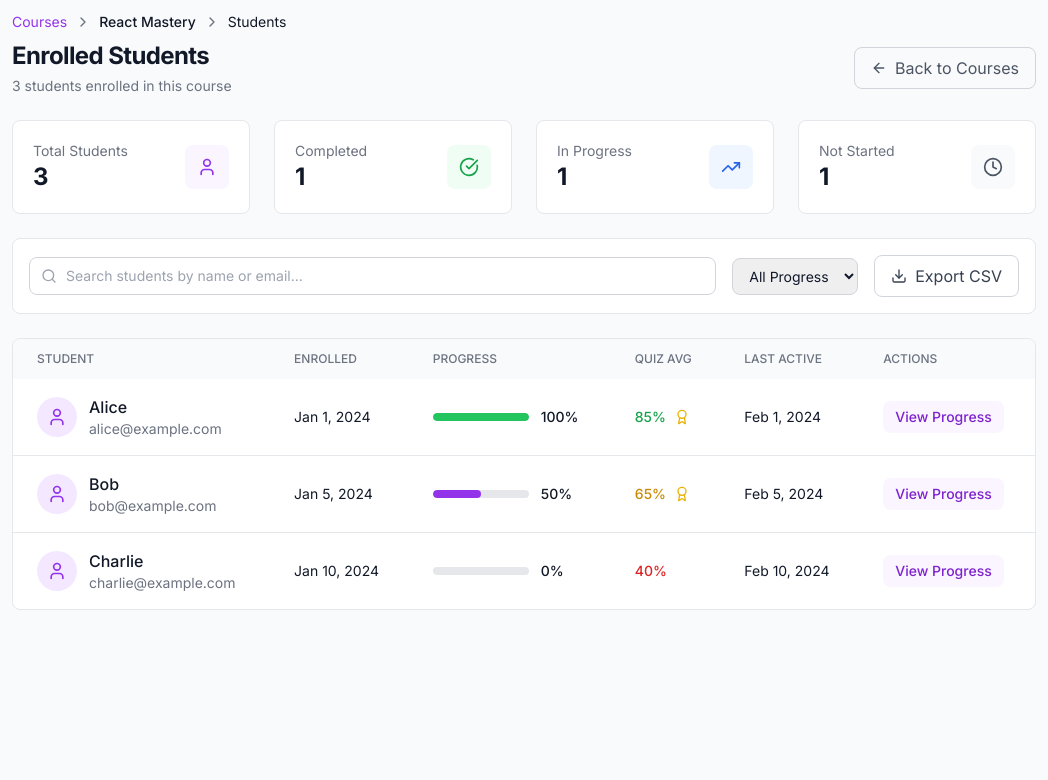
filters students by search and progress
Check: the text "React Mastery" is shown, box [99,12,196,32]
Note: search by name
Step 1. Type "alice" into the field with placeholder "Search students by name or email..." → [373, 276], box [29,257,716,295]
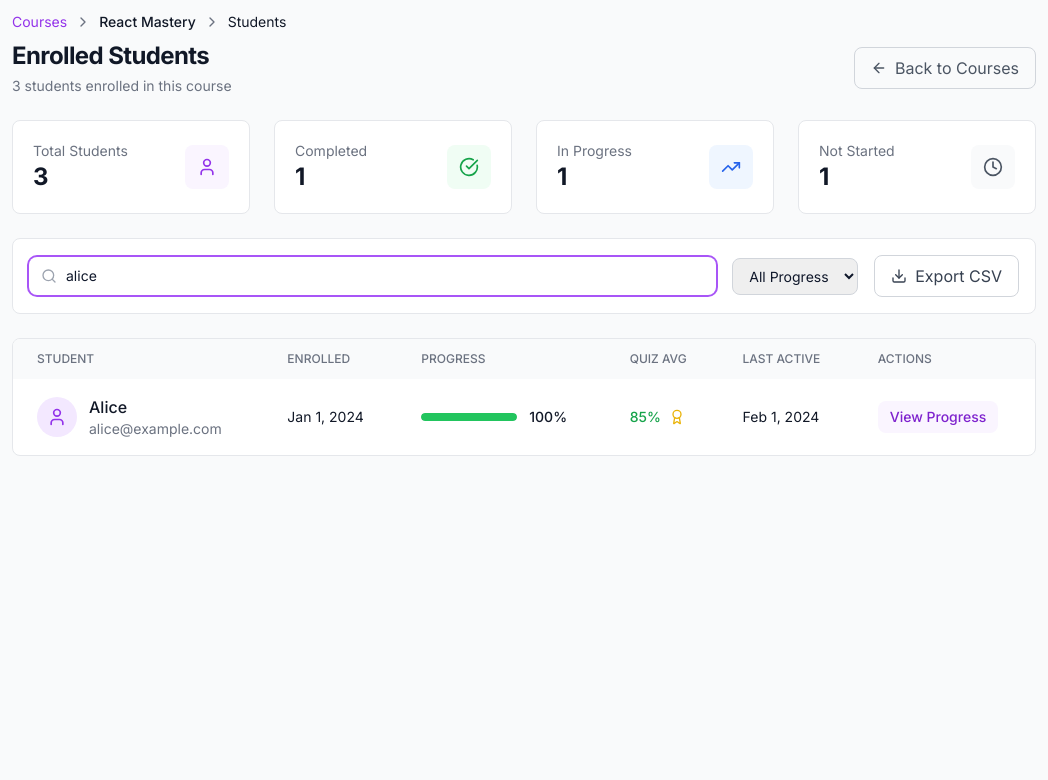
Check: the text "alice@example.com" is shown, box [89,419,222,439]
Check: the text "bob@example.com" is gone
Check: the text "charlie@example.com" is gone
Note: clear search and filter by progress
Step 2. Clear the field with placeholder "Search students by name or email..." → [373, 276], box [29,257,716,295]
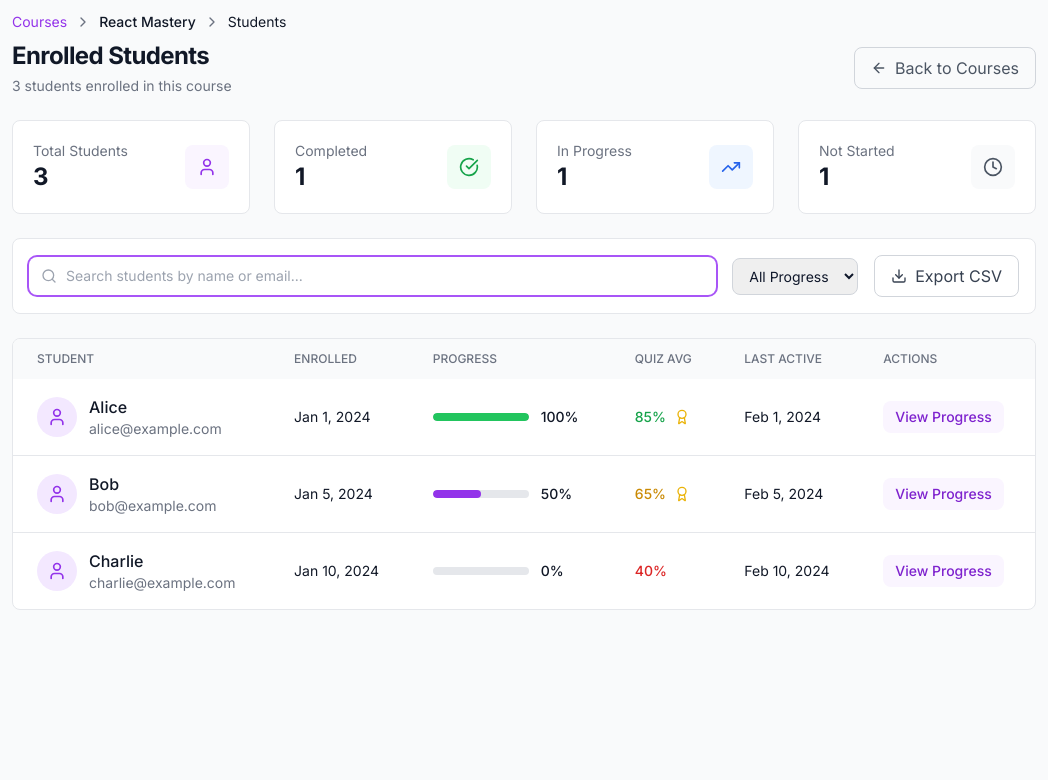
Step 3. Select "Completed" in the dropdown showing "all progress" → [795, 276], box [732,258,858,294]
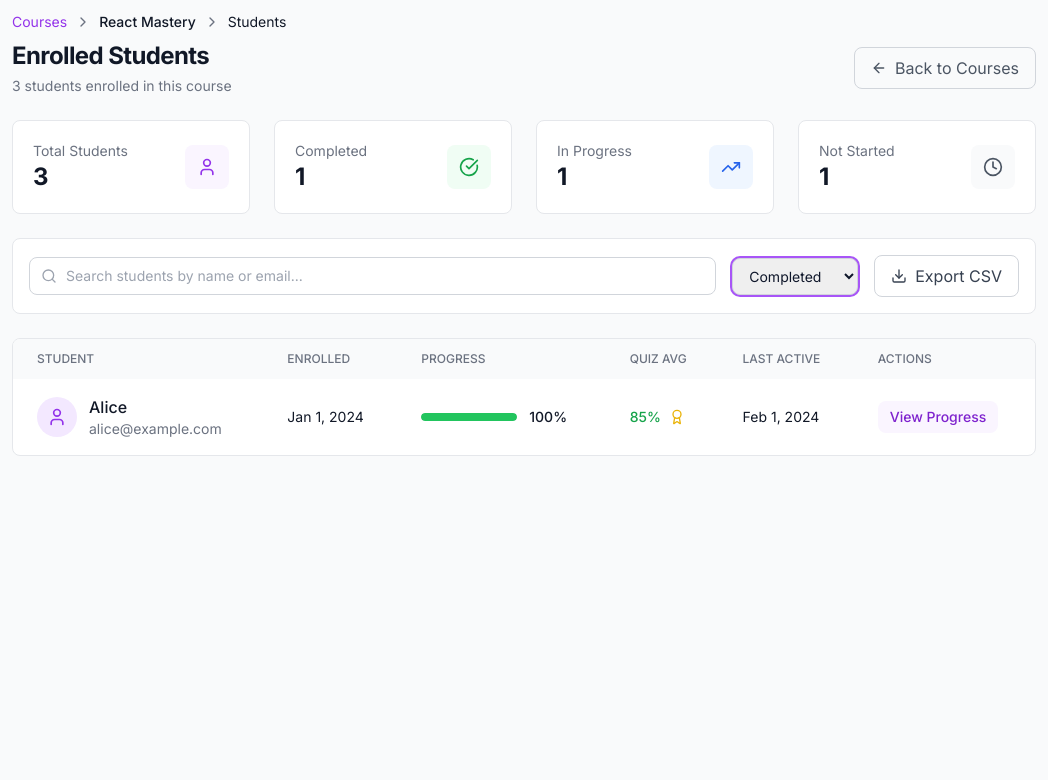
Check: the text "alice@example.com" is shown, box [89,419,222,439]
Check: the text "bob@example.com" is gone
Step 4. Select "In Progress" in the dropdown showing "completed" → [795, 276], box [732,258,858,294]
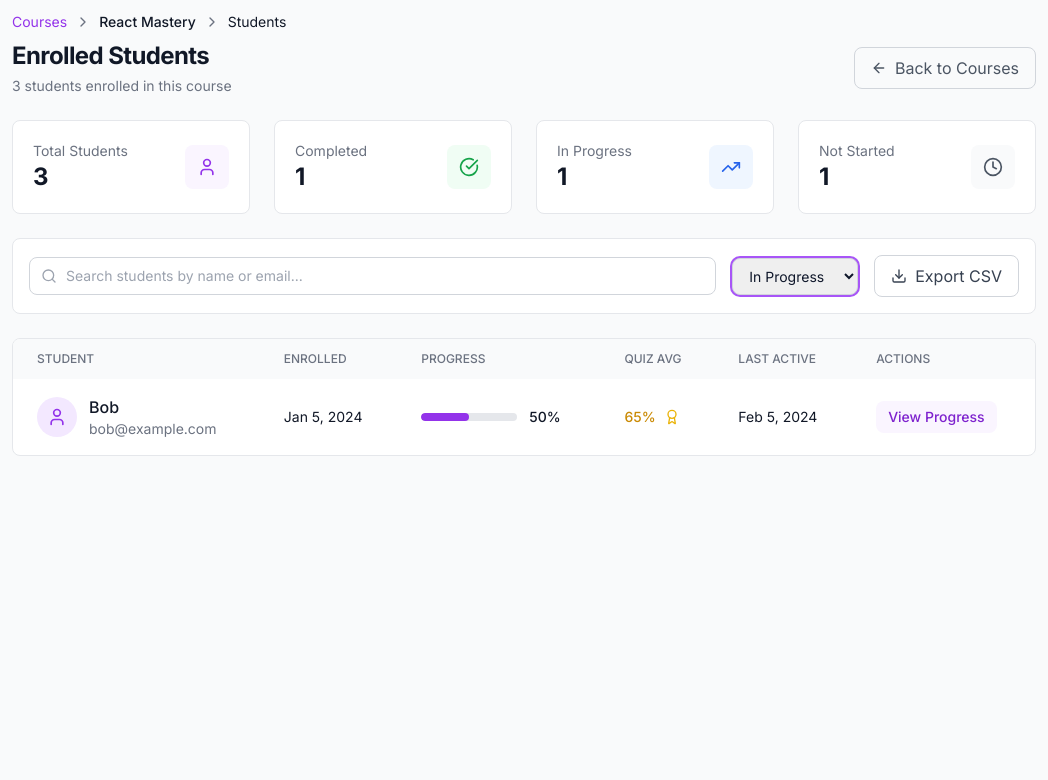
Check: the text "bob@example.com" is shown, box [89,419,216,439]
Check: the text "alice@example.com" is gone
Step 5. Select "Not Started" in the dropdown showing "in progress" → [795, 276], box [732,258,858,294]
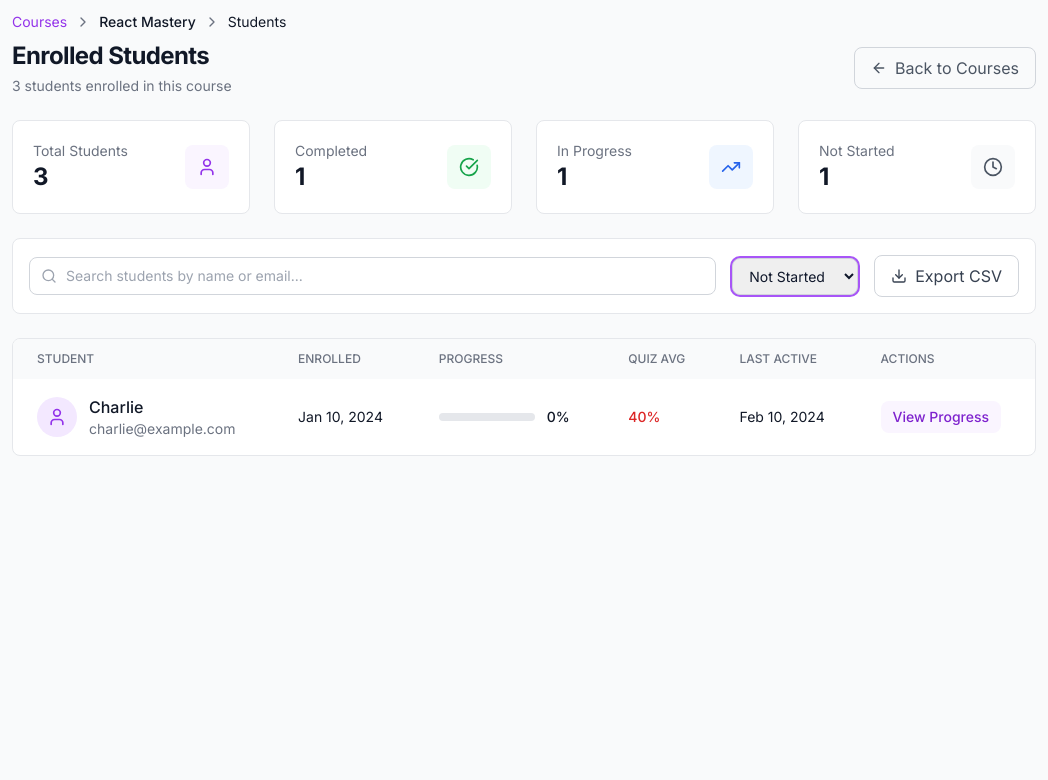
Check: the text "charlie@example.com" is shown, box [89,419,236,439]
